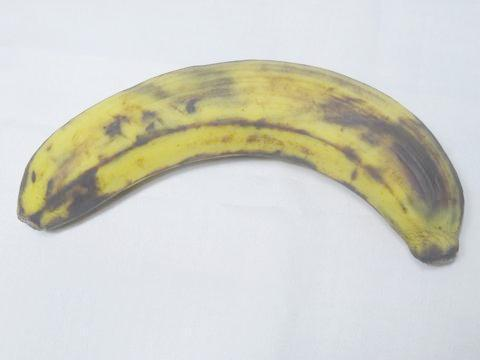overripe: (9, 53, 479, 294)
